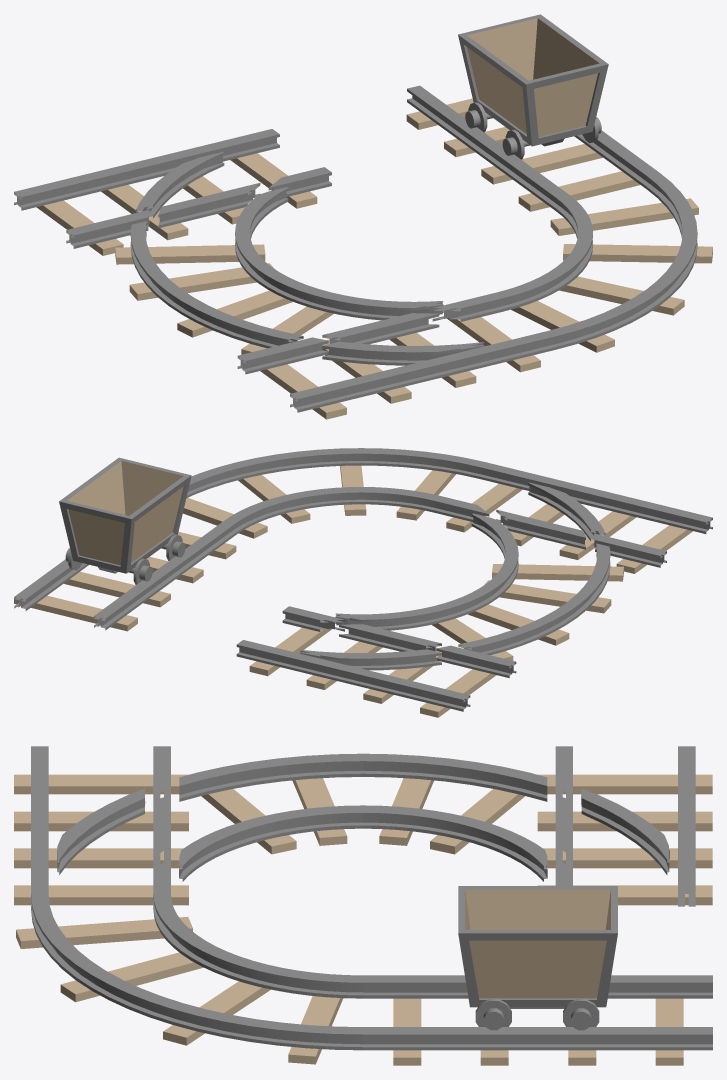
The model's file is mine_cart.glb.
The picture shows the model from 3 angles, top to bottom: view 1: azimuth 30°, elevation 25°; view 2: azimuth 150°, elevation 25°; view 3: azimuth 270°, elevation 25°; orthographic projection. The views are drawn at different scales.
Parts seen in each view (by area): view 1: TrackSplitR, TrackSplitL, TrackCurve, MineCart, TrackStraight; view 2: TrackSplitL, TrackSplitR, TrackCurve, MineCart, TrackStraight; view 3: TrackSplitR, TrackSplitL, TrackCurve, MineCart, TrackStraight.
Part boxes in pixels (x1,y1,x2,y2): TrackSplitR: (168, 267, 555, 419); TrackSplitL: (14, 129, 331, 305); TrackCurve: (496, 172, 712, 352); MineCart: (458, 14, 608, 159); TrackStraight: (406, 85, 658, 211); TrackSplitL: (236, 584, 576, 717); TrackSplitR: (433, 462, 712, 617); TrackCurve: (183, 448, 485, 538); MineCart: (59, 457, 191, 584); TrackStraight: (14, 520, 236, 631); TrackSplitR: (14, 746, 363, 906); TrackSplitL: (363, 746, 712, 906); TrackCurve: (16, 894, 363, 1064); MineCart: (458, 886, 617, 1030); TrackStraight: (363, 975, 712, 1065).
Size of what is drawn, in the model's own units: 4 by 0.7509 by 4.
